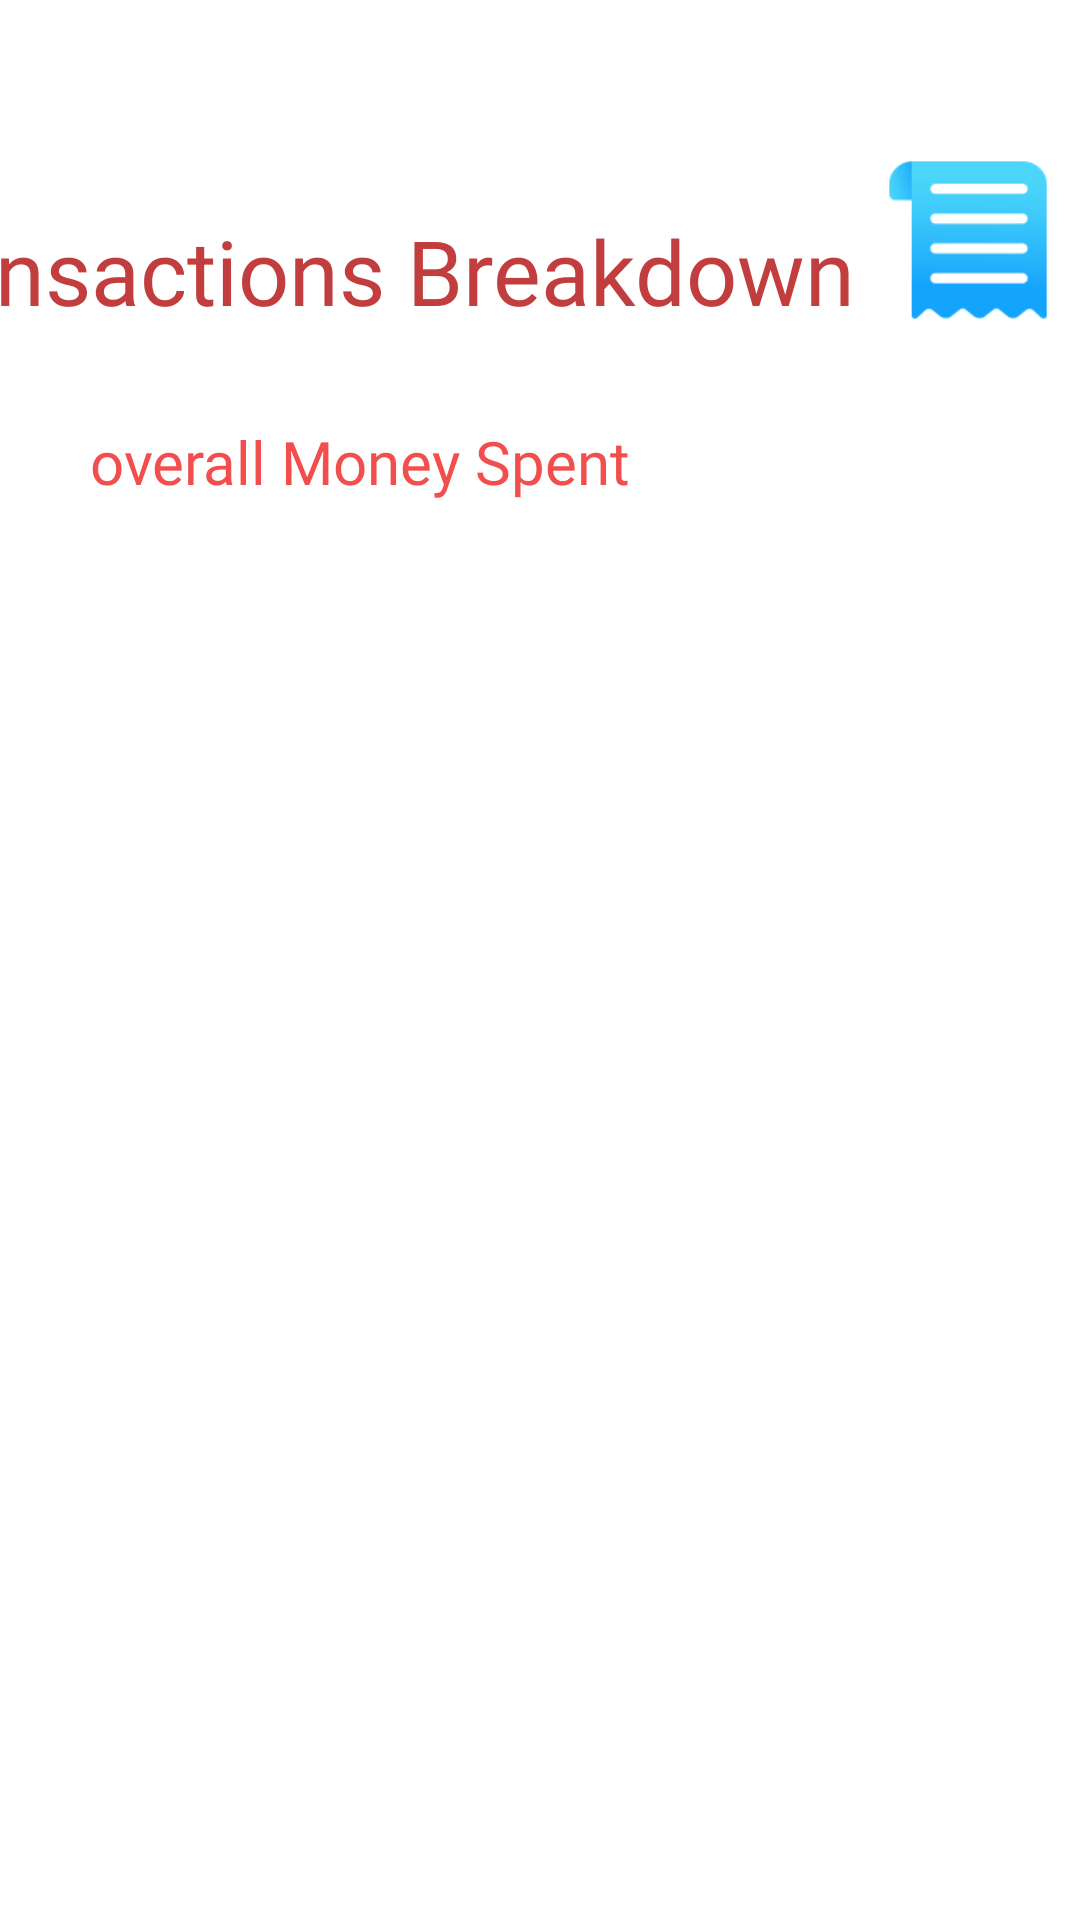

Icons on this 1080w x 1920h Android screen, each with the point to tap as (x=x, y=y):
transactionhistory: (x=968, y=240)
